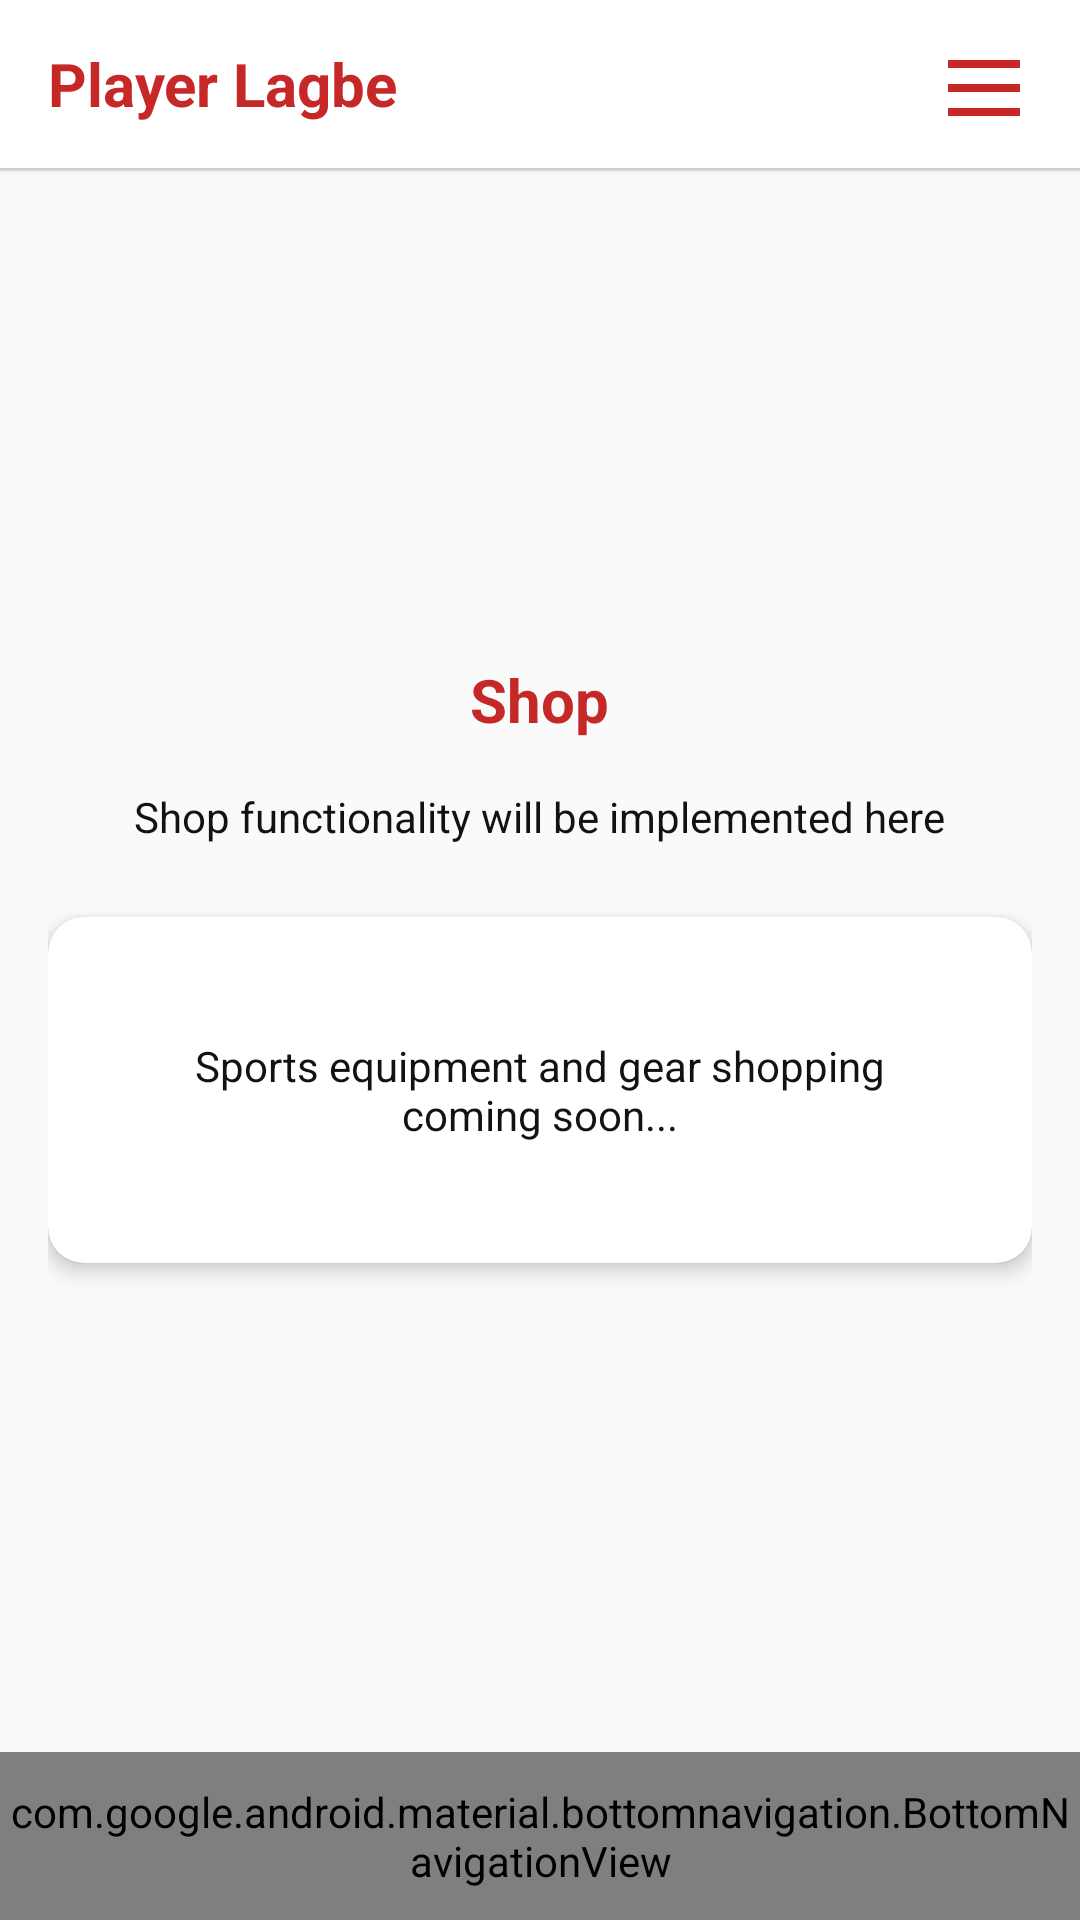

Icon click points for this 1080px×1920px phone screenshot, format (x,y):
Menu: (984,88)
